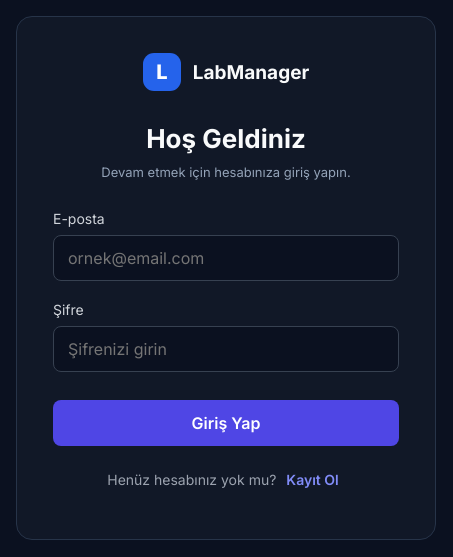
Auth component › switches to the registration form
Click the button "Kayıt Ol".
click(313, 480)  # box [280,470,345,489]
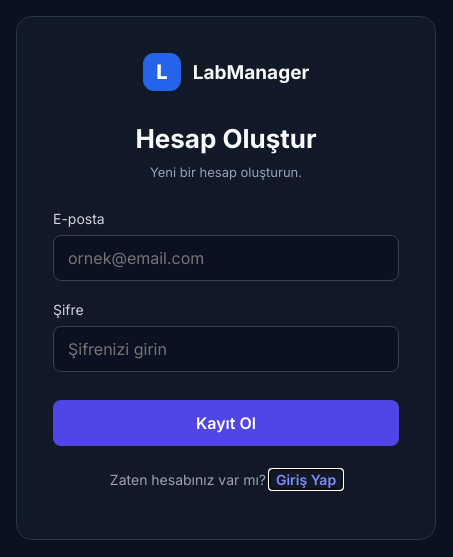
Result: the heading "Hesap Oluştur" is shown at [135,123,317,154]
